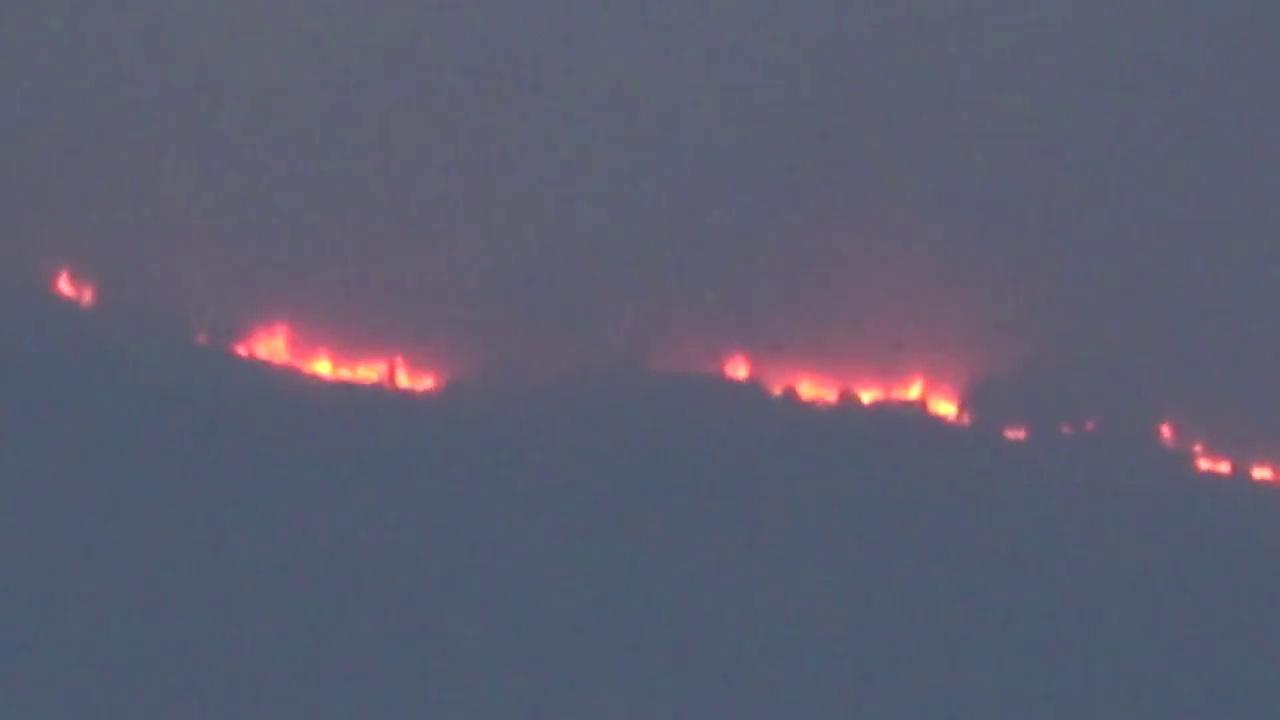fire: (729, 359, 961, 423), (232, 322, 440, 392), (1156, 421, 1277, 480), (50, 263, 93, 306)
